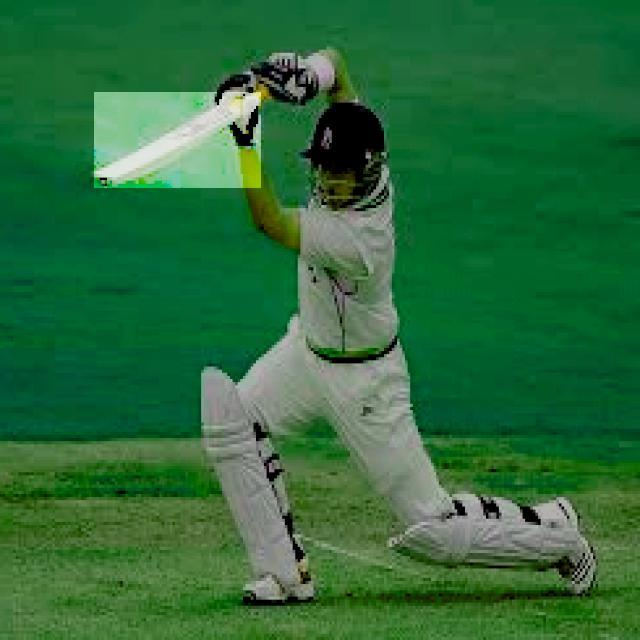bat: (92, 89, 260, 190)
toe: (92, 166, 116, 193)
